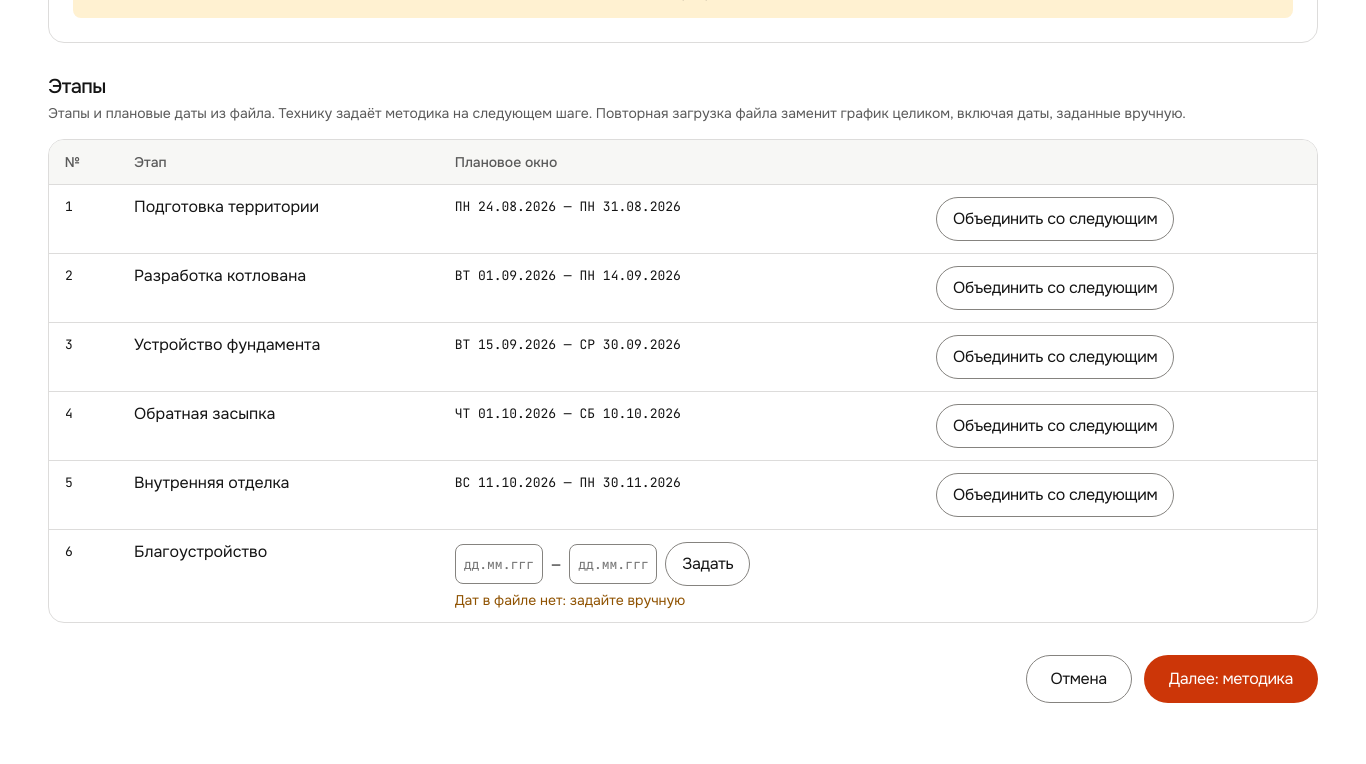
Test case: creating a site › rejects manual dates the server does not accept
(page scrolled)
Type "01.12" into the field named "Дата начала: Благоустройство" at (499, 564), box x1=455 y1=544 x2=543 y2=584
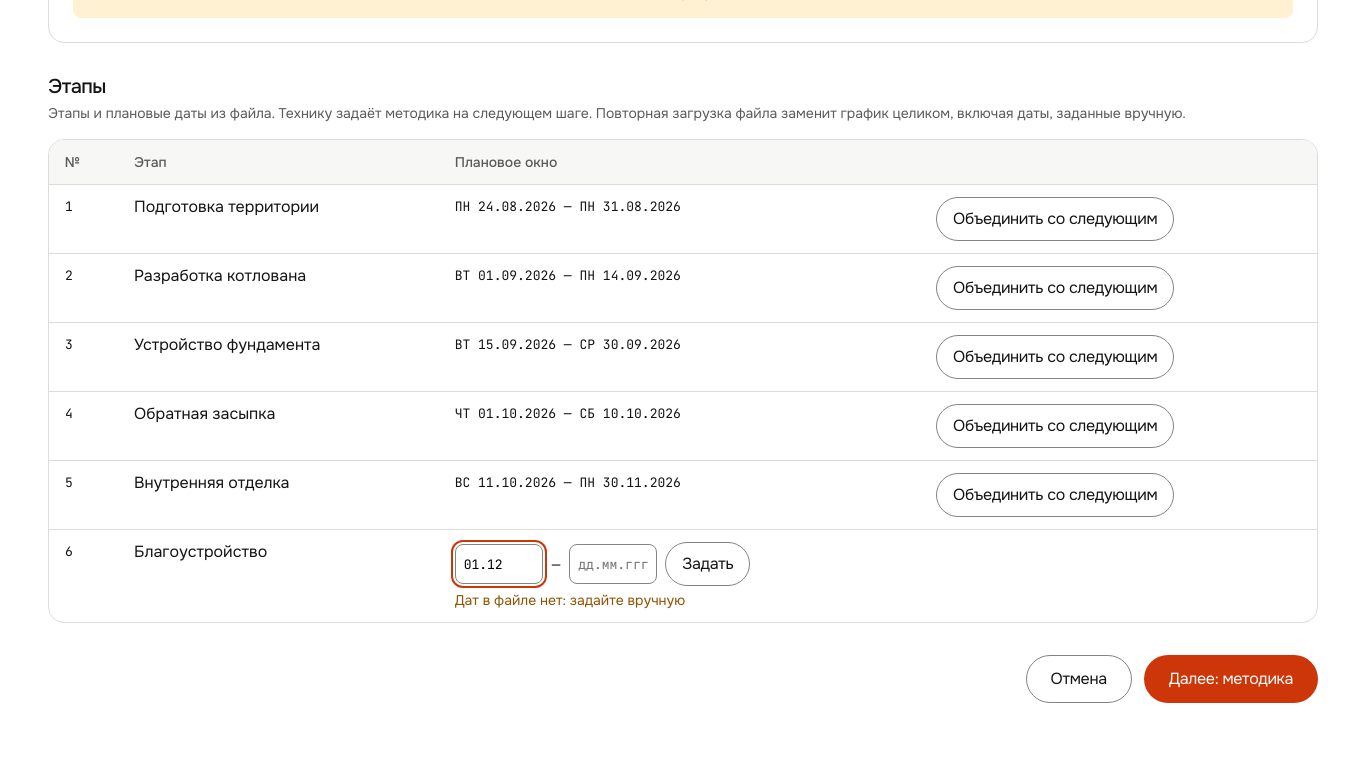
Type "20.12" into the field named "Дата окончания: Благоустройство" at (613, 564), box x1=569 y1=544 x2=657 y2=584
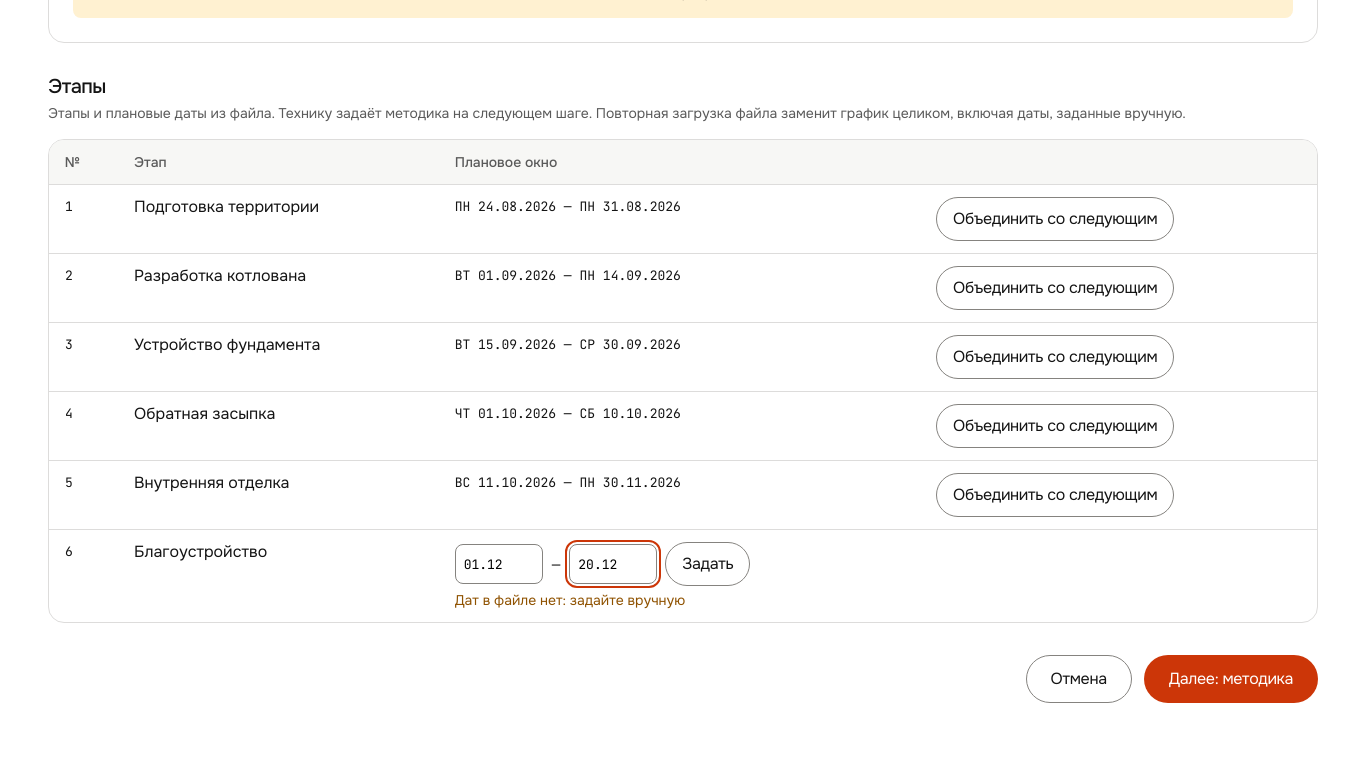
Click the button "Задать" at (708, 564), box x1=665 y1=542 x2=750 y2=586
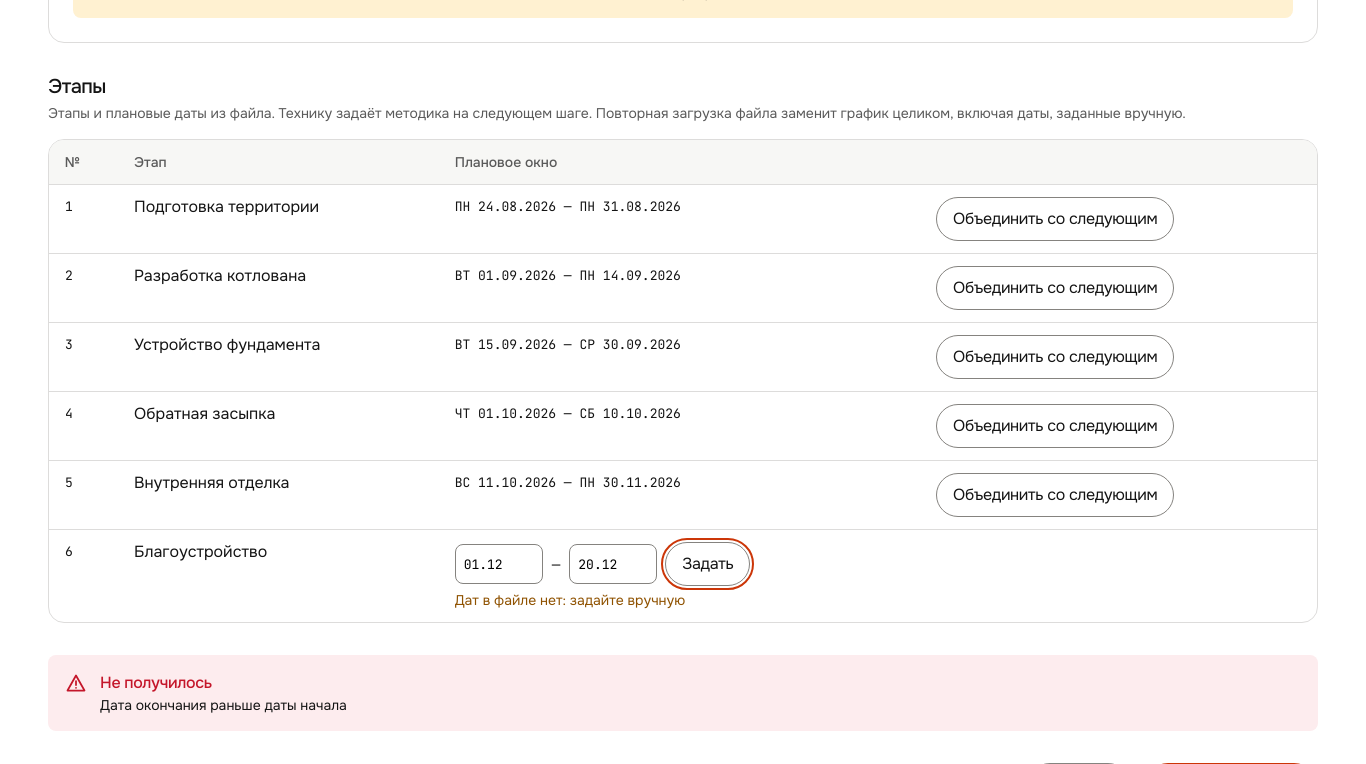
Result: the text "Дата окончания раньше даты начала" is shown at x1=100 y1=696 x2=347 y2=714
